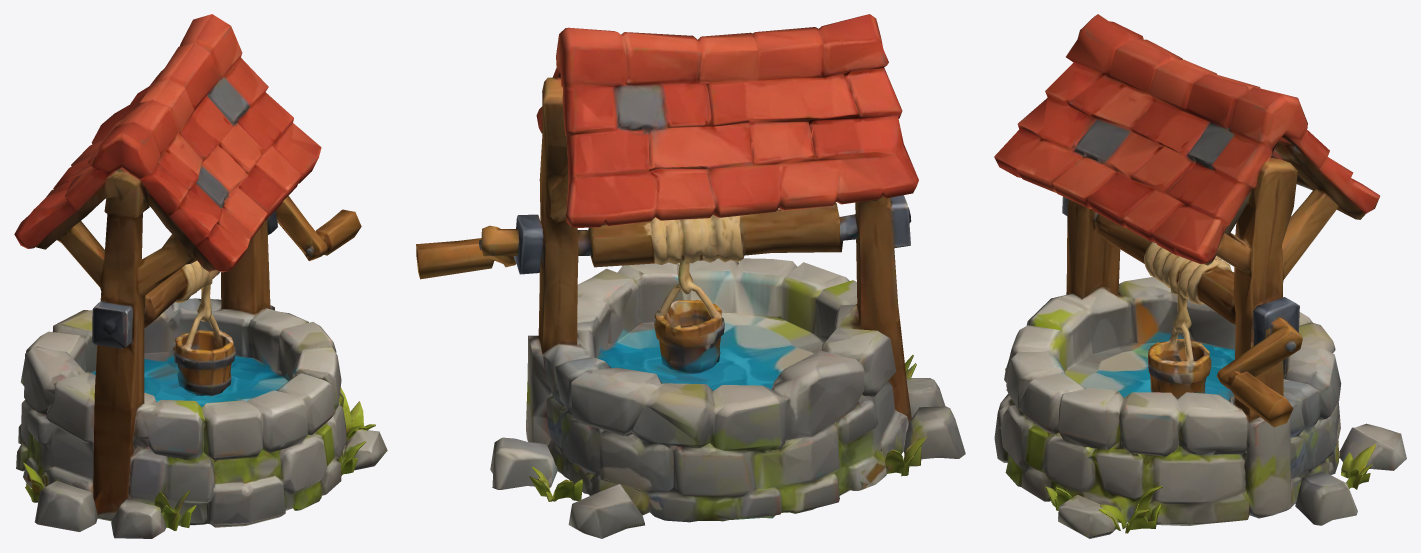
The model's file is bld_well.glb.
3 views of the same model, side by side, from view 1: azimuth 30°, elevation 25°; view 2: azimuth 150°, elevation 25°; view 3: azimuth 270°, elevation 25° (orthographic). The views are drawn at different scales.
Parts seen in each view (by area): view 1: BakeLow; view 2: BakeLow; view 3: BakeLow.
Boxes of the visible parts, x1=… form: BakeLow: x1=14, y1=14, x2=387, y2=538; BakeLow: x1=416, y1=14, x2=965, y2=538; BakeLow: x1=994, y1=14, x2=1406, y2=538.
Bounding box in the file's own units: 0.8245 × 0.7649 × 0.7012.
1 material, 1 textured.
